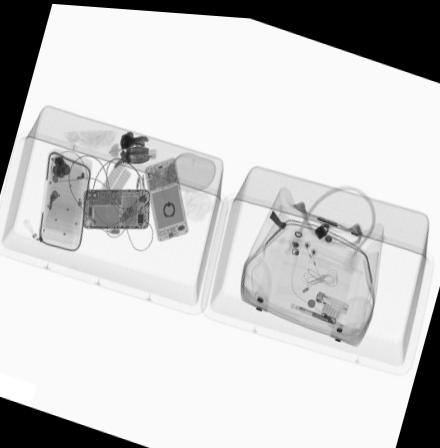Lighter: (314, 287, 349, 310)
